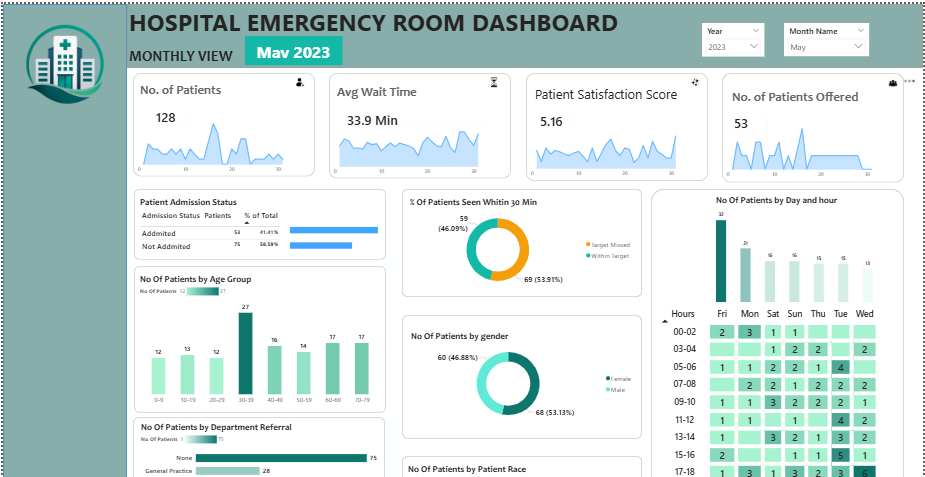

The page's visual inventory and layout, read from the dashboard file:
{"tool":"powerbi","page":{"name":"MONTHLY VIEW","canvas":[2300,1400],"ordinal":0},"visuals":[{"type":"shape","box":[0,0,309.6,1400.5],"z":0},{"type":"shape","box":[310,0,1990,160],"z":1000},{"type":"textbox","box":[310,0,1243.8,87.5],"z":2000},{"type":"textbox","box":[310,101.2,277.5,58.8],"z":3000},{"type":"shape","box":[325.7,172.9,455,259],"z":4000},{"type":"cardVisual","fields":{"Data":["Hospital ER_Data - Hospital ER_Data.No Of Patients"]},"box":[353.3,245,131.7,71.7],"z":5000},{"type":"slicer","fields":{"Values":["Date Table.Year"]},"box":[1747.1,47.1,155.7,84.3],"z":6000},{"type":"slicer","fields":{"Values":["Date Table.Month Name"]},"box":[1952.5,47.5,212.5,82.5],"z":7000},{"type":"textbox","box":[338.3,190,220,55],"z":8000},{"type":"areaChart","fields":{"Category":["Date Table.Date.Variation.Date Hierarchy.Day"],"Y":["Hospital ER_Data - Hospital ER_Data.No Of Patients"]},"box":[325.7,284.3,435.7,145.7],"z":9000},{"type":"cardVisual","fields":{"Data":["Min(Date Table.Month & Year)"]},"box":[605.7,80,244.3,72.9],"z":10000},{"type":"shape","box":[816,173,455,264],"z":11000},{"type":"cardVisual","fields":{"Data":["Hospital ER_Data - Hospital ER_Data.Avg Wait Time"]},"box":[830,250,398,72],"z":12000},{"type":"textbox","box":[830,195.7,220,54.3],"z":13000},{"type":"areaChart","fields":{"Category":["Date Table.Date.Variation.Date Hierarchy.Day"],"Y":["Avg(Hospital ER_Data - Hospital ER_Data.Patient Waittime)"]},"box":[815.7,291.4,434.3,144.3],"z":14000},{"type":"shape","box":[1307,173,455,270],"z":15000},{"type":"cardVisual","fields":{"Data":["Hospital ER_Data - Hospital ER_Data.Satisfaction Score"]},"box":[1313,255,131.7,71.7],"z":16000},{"type":"textbox","box":[1324,198,386,56],"z":17000},{"type":"shape","box":[326.2,462.5,630,177],"z":18000},{"type":"areaChart","fields":{"Category":["Date Table.Date.Variation.Date Hierarchy.Day"],"Y":["Hospital ER_Data - Hospital ER_Data.Satisfaction Score"]},"box":[1307.1,294.3,435.7,145.7],"z":19000},{"type":"shape","box":[1797,173,455,274],"z":20000},{"type":"cardVisual","fields":{"Data":["Hospital ER_Data - Hospital ER_Data.No of Patient Reffered"]},"box":[1797.6,260.7,131.7,71.7],"z":21000},{"type":"textbox","box":[1817.5,207.5,386.2,73.8],"z":22000},{"type":"areaChart","fields":{"Category":["Date Table.Date.Variation.Date Hierarchy.Day"],"Y":["Hospital ER_Data - Hospital ER_Data.No of Patient Reffered"]},"box":[1797.1,298.6,435.7,145.7],"z":23000},{"type":"pivotTable","title":"Patient Admission Status","fields":{"Rows":["Hospital ER_Data - Hospital ER_Data.Admission Status"],"Values":["Hospital ER_Data - Hospital ER_Data.No Of Patients1","Hospital ER_Data - Hospital ER_Data.No Of Patients"]},"box":[338.3,480,593.3,145],"z":24000},{"type":"barChart","fields":{"Category":["Hospital ER_Data - Hospital ER_Data.Admission Status"],"Y":["Hospital ER_Data - Hospital ER_Data.No Of Patients"]},"box":[711.4,525.7,244.3,114.3],"z":25000},{"type":"shape","box":[327.5,655,630,367.5],"z":26000},{"type":"clusteredColumnChart","fields":{"Category":["Hospital ER_Data - Hospital ER_Data.Age Group"],"Y":["Hospital ER_Data - Hospital ER_Data.No Of Patients"]},"box":[337.5,672.5,612.5,337.5],"z":27000},{"type":"shape","box":[326,1033,630,367],"z":28000},{"type":"clusteredBarChart","fields":{"Category":["Hospital ER_Data - Hospital ER_Data.Department Referral"],"Y":["Hospital ER_Data - Hospital ER_Data.No Of Patients"]},"box":[340,1043.3,600,345],"z":29000},{"type":"shape","box":[998.3,463.3,600,270],"z":30000},{"type":"donutChart","title":"% Of Patients Seen Whitin 30 Min","fields":{"Category":["Hospital ER_Data - Hospital ER_Data.Waittime Status"],"Y":["Hospital ER_Data - Hospital ER_Data.No Of Patients"]},"box":[1013.3,480,570,240],"z":31000},{"type":"shape","box":[998,778,600,310],"z":32000},{"type":"donutChart","title":"No Of Patients by gender","fields":{"Y":["Hospital ER_Data - Hospital ER_Data.No Of Patients"],"Category":["Hospital ER_Data - Hospital ER_Data.Patient Gender"]},"box":[1014,816,570,240],"z":33000},{"type":"shape","box":[998,1130,600,270],"z":34000},{"type":"clusteredBarChart","fields":{"Y":["Hospital ER_Data - Hospital ER_Data.No Of Patients"],"Category":["Hospital ER_Data - Hospital ER_Data.Patient Race"]},"box":[1008,1148,580,236],"z":35000},{"type":"shape","box":[1620,462.5,632.5,937.5],"z":36000},{"type":"pivotTable","fields":{"Rows":["Hospital ER_Data - Hospital ER_Data.Waittime Interval"],"Columns":["Date Table.Day Name"],"Values":["Hospital ER_Data - Hospital ER_Data.No Of Patients"]},"box":[1637.5,752.5,600,605],"z":37000},{"type":"columnChart","title":"No Of Patients by Day and hour","fields":{"Category":["Date Table.Day Name"],"Y":["Hospital ER_Data - Hospital ER_Data.No Of Patients"]},"box":[1778,476,404,276],"z":38000},{"type":"image","box":[22.5,0,265,300],"z":39000},{"type":"image","box":[722,182,40,26],"z":40000},{"type":"image","box":[1208,183,40,26],"z":41000},{"type":"image","box":[1710,183,40,26],"z":42000},{"type":"image","box":[2204,185,40,26],"z":43000}]}

Visuals, with their boxes on the page's 2300x1400 design canvas (x1, y1, x2, y2). These are canvas units, not pixel positions in the 925x477 screenshot, which may show the page scaled, cropped or inside an application window:
shape: box=[0, 0, 310, 1400]
shape: box=[310, 0, 2300, 160]
textbox: box=[310, 0, 1554, 88]
textbox: box=[310, 101, 588, 160]
shape: box=[326, 173, 781, 432]
cardVisual - Hospital ER_Data - Hospital ER_Data.No Of Patients: box=[353, 245, 485, 317]
slicer - Date Table.Year: box=[1747, 47, 1903, 131]
slicer - Date Table.Month Name: box=[1952, 48, 2165, 130]
textbox: box=[338, 190, 558, 245]
areaChart - Date Table.Date.Variation.Date Hierarchy.Day x Hospital ER_Data - Hospital ER_Data.No Of Patients: box=[326, 284, 761, 430]
cardVisual - Min(Date Table.Month & Year): box=[606, 80, 850, 153]
shape: box=[816, 173, 1271, 437]
cardVisual - Hospital ER_Data - Hospital ER_Data.Avg Wait Time: box=[830, 250, 1228, 322]
textbox: box=[830, 196, 1050, 250]
areaChart - Date Table.Date.Variation.Date Hierarchy.Day x Avg(Hospital ER_Data - Hospital ER_Data.Patient Waittime): box=[816, 291, 1250, 436]
shape: box=[1307, 173, 1762, 443]
cardVisual - Hospital ER_Data - Hospital ER_Data.Satisfaction Score: box=[1313, 255, 1445, 327]
textbox: box=[1324, 198, 1710, 254]
shape: box=[326, 462, 956, 640]
areaChart - Date Table.Date.Variation.Date Hierarchy.Day x Hospital ER_Data - Hospital ER_Data.Satisfaction Score: box=[1307, 294, 1743, 440]
shape: box=[1797, 173, 2252, 447]
cardVisual - Hospital ER_Data - Hospital ER_Data.No of Patient Reffered: box=[1798, 261, 1929, 332]
textbox: box=[1818, 208, 2204, 281]
areaChart - Date Table.Date.Variation.Date Hierarchy.Day x Hospital ER_Data - Hospital ER_Data.No of Patient Reffered: box=[1797, 299, 2233, 444]
"Patient Admission Status" pivotTable: box=[338, 480, 932, 625]
barChart - Hospital ER_Data - Hospital ER_Data.Admission Status x Hospital ER_Data - Hospital ER_Data.No Of Patients: box=[711, 526, 956, 640]
shape: box=[328, 655, 958, 1022]
clusteredColumnChart - Hospital ER_Data - Hospital ER_Data.Age Group x Hospital ER_Data - Hospital ER_Data.No Of Patients: box=[338, 672, 950, 1010]
shape: box=[326, 1033, 956, 1400]
clusteredBarChart - Hospital ER_Data - Hospital ER_Data.Department Referral x Hospital ER_Data - Hospital ER_Data.No Of Patients: box=[340, 1043, 940, 1388]
shape: box=[998, 463, 1598, 733]
"% Of Patients Seen Whitin 30 Min" donutChart: box=[1013, 480, 1583, 720]
shape: box=[998, 778, 1598, 1088]
"No Of Patients by gender" donutChart: box=[1014, 816, 1584, 1056]
shape: box=[998, 1130, 1598, 1400]
clusteredBarChart - Hospital ER_Data - Hospital ER_Data.No Of Patients x Hospital ER_Data - Hospital ER_Data.Patient Race: box=[1008, 1148, 1588, 1384]
shape: box=[1620, 462, 2252, 1400]
pivotTable - Hospital ER_Data - Hospital ER_Data.Waittime Interval x Date Table.Day Name: box=[1638, 752, 2238, 1358]
"No Of Patients by Day and hour" columnChart: box=[1778, 476, 2182, 752]
image: box=[22, 0, 288, 300]
image: box=[722, 182, 762, 208]
image: box=[1208, 183, 1248, 209]
image: box=[1710, 183, 1750, 209]
image: box=[2204, 185, 2244, 211]
